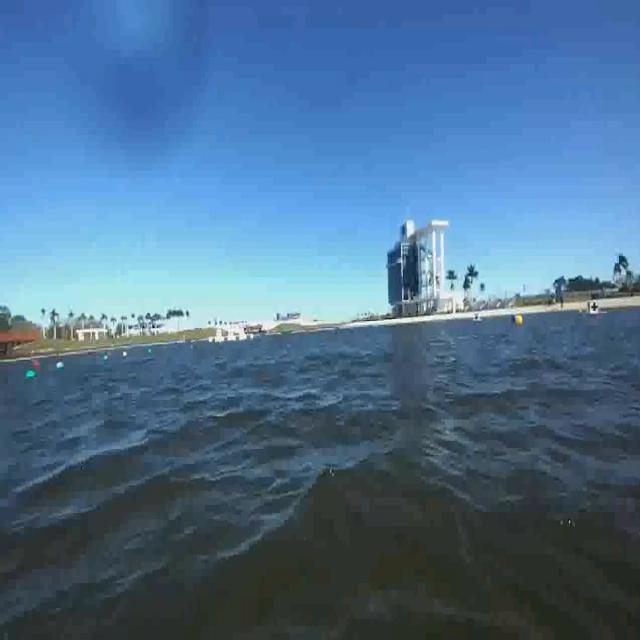green-buoy: (26, 368, 38, 380)
yellow-buoy: (516, 313, 525, 327)
